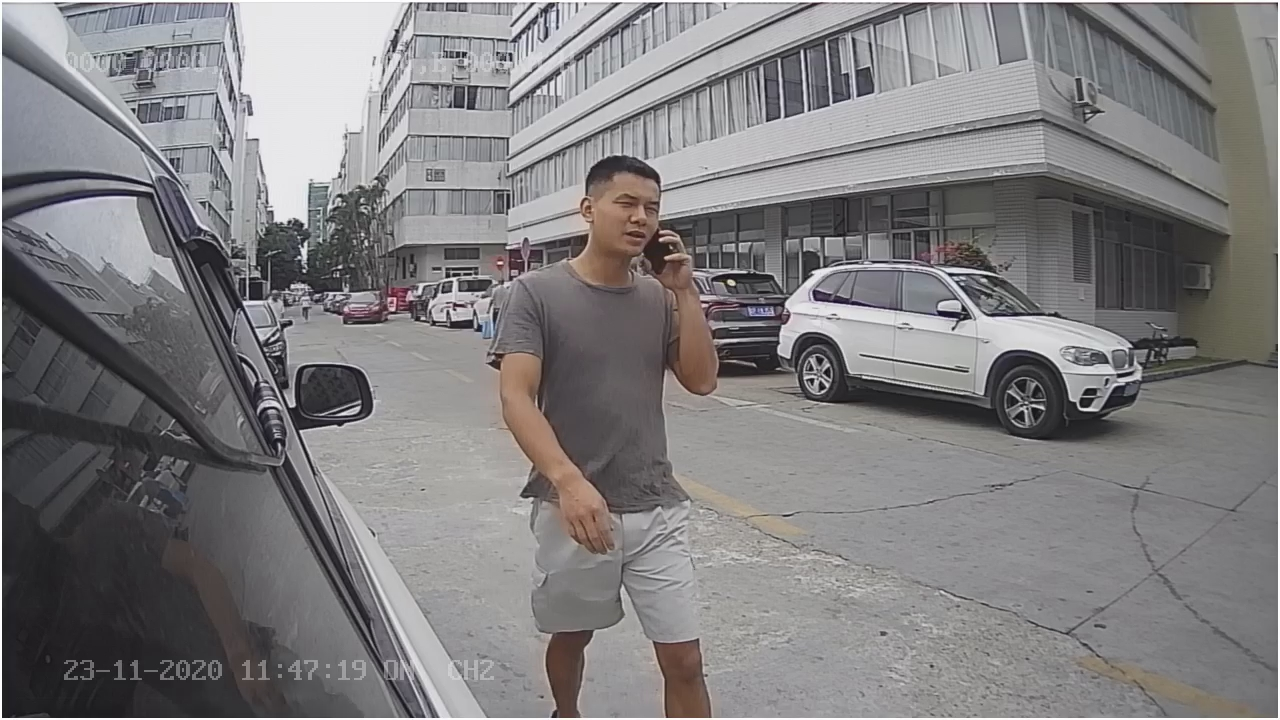person: (486, 130, 731, 604)
